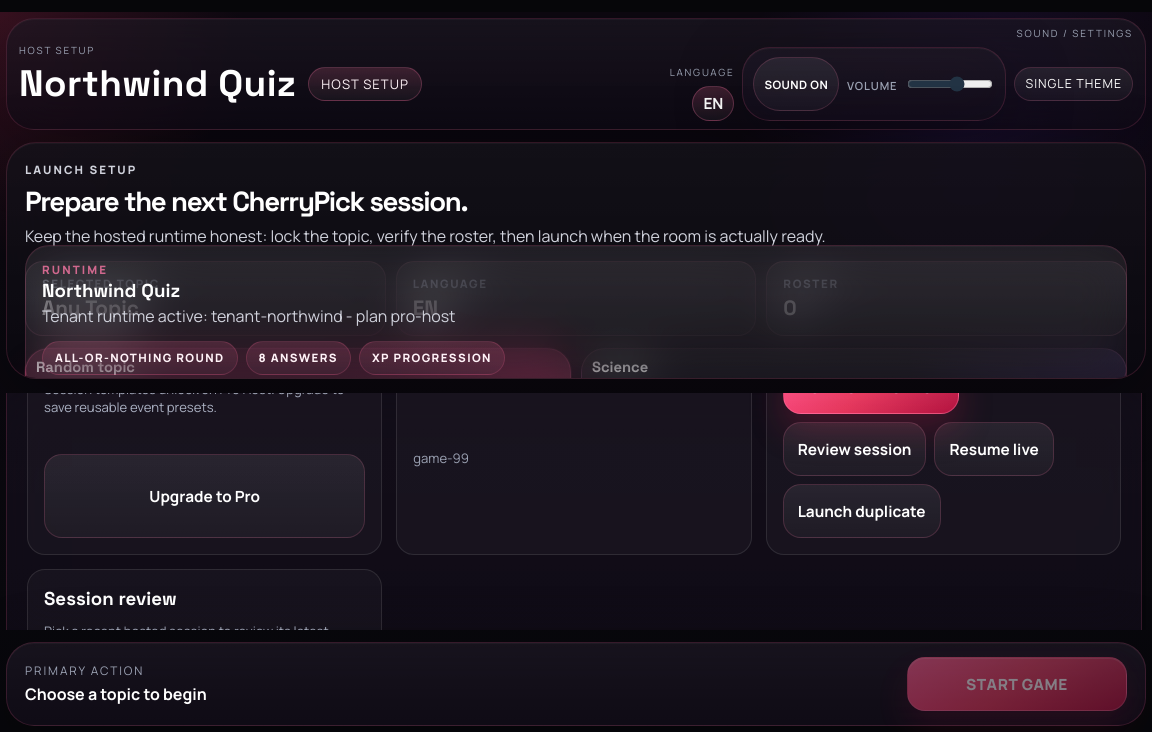
Scenario: App tenant runtime integration › launches duplicate live session from recent host history
(page scrolled)
Click the button "Launch duplicate".
click(862, 511)  # box [783,484,940,538]
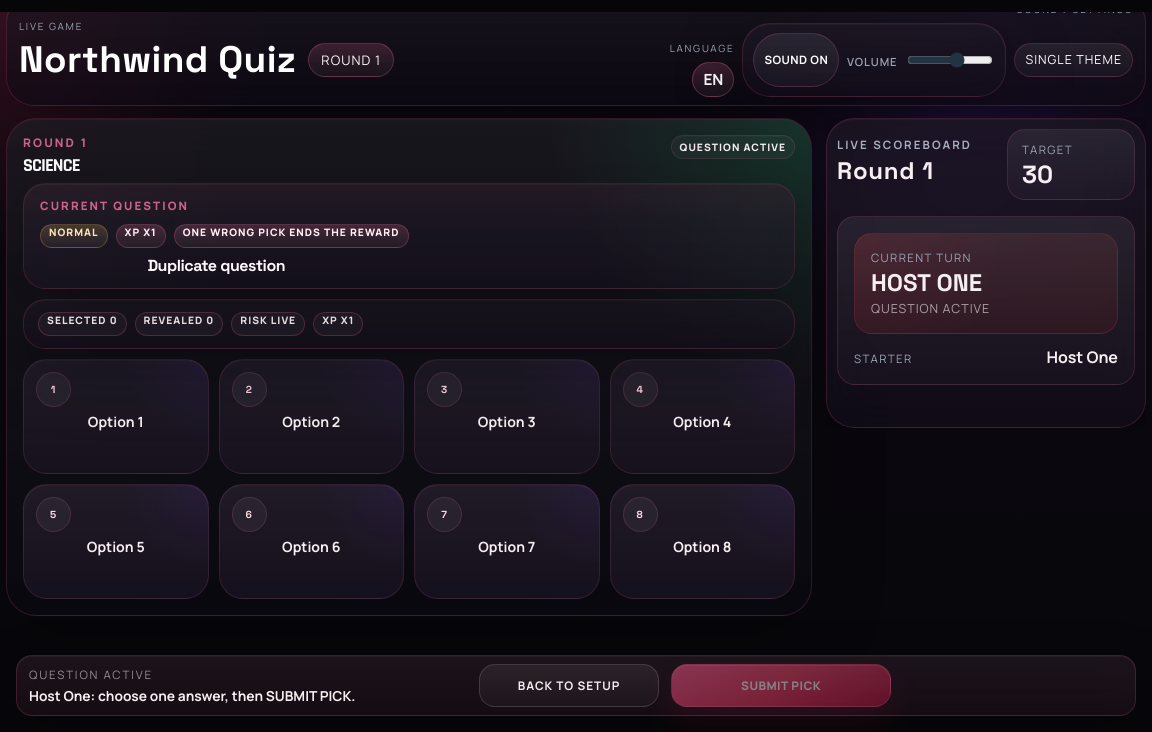
Result: the text "Duplicate question" is shown at [147,255,285,276]
Result: the button with aria-label "answer-1 available" is shown at [23,359,208,474]
